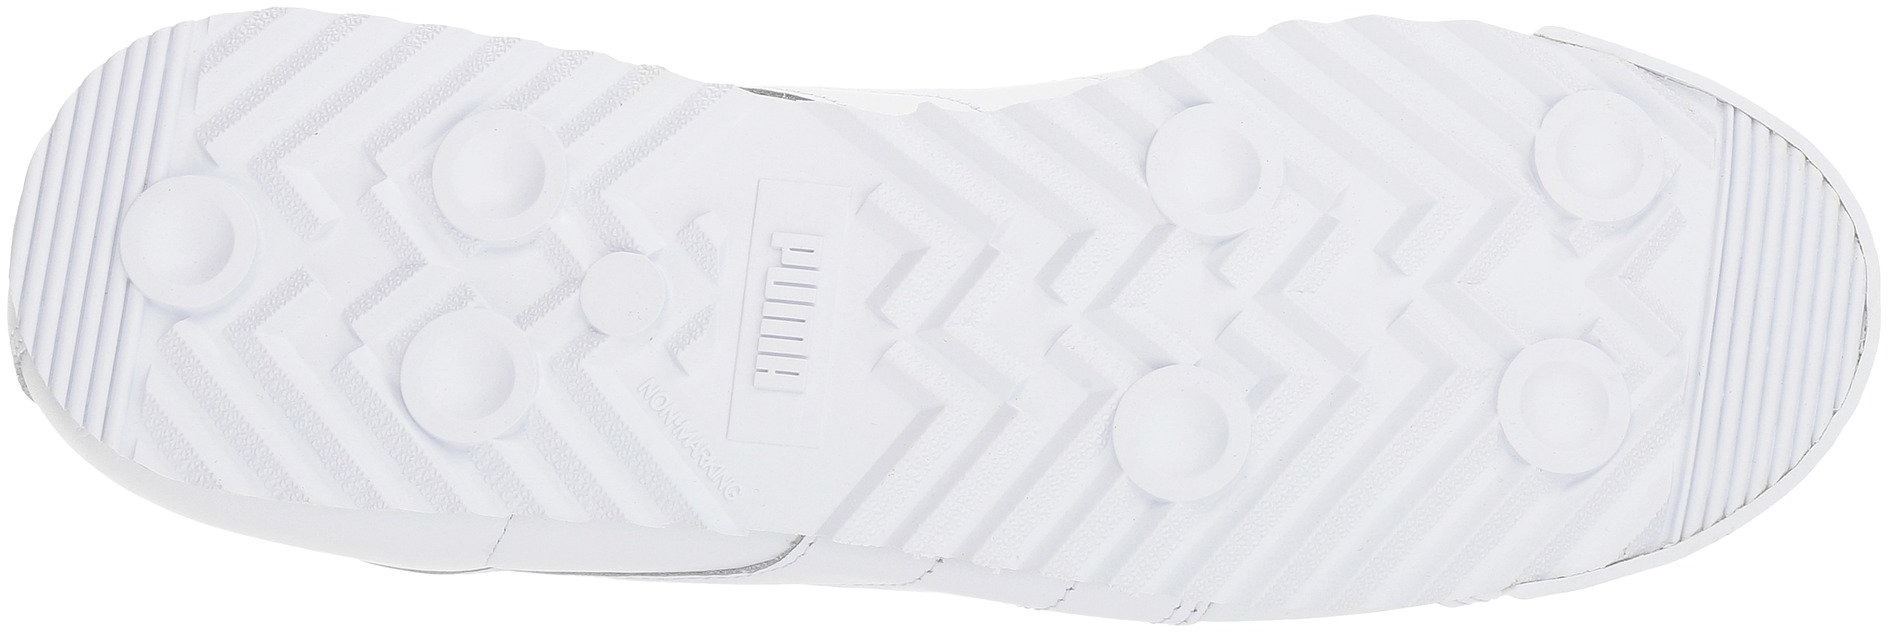chevron: (866, 156, 1107, 376), (1291, 259, 1488, 469), (184, 320, 371, 492), (898, 396, 1080, 553), (246, 37, 417, 197)
circle: (1126, 85, 1293, 238), (421, 102, 590, 253), (129, 161, 284, 320), (402, 297, 560, 453), (1533, 76, 1682, 240), (1495, 335, 1652, 484), (574, 240, 680, 352)
other: (1724, 226, 1860, 371), (16, 191, 120, 303)
text: (753, 226, 840, 318), (748, 318, 830, 407), (629, 373, 684, 420), (672, 427, 722, 472), (710, 484, 757, 525)
